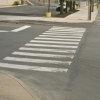Crosswalk: (16, 13, 78, 92)
